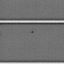dust: (30, 30, 34, 34)
